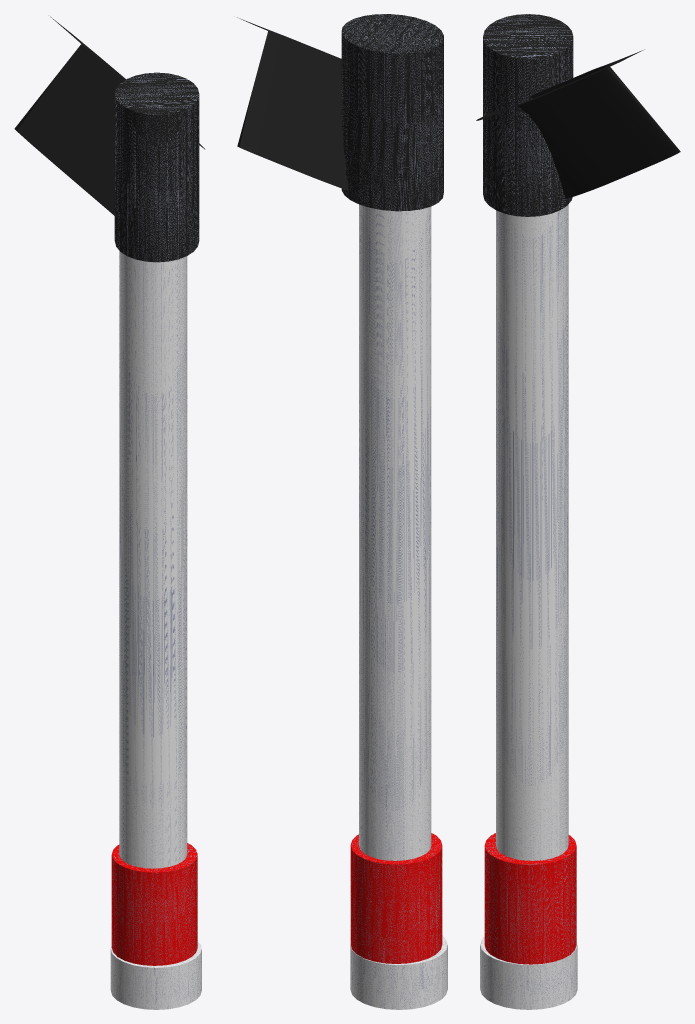
3 renders of one model, left to right at view 1: azimuth 90°, elevation 25°; view 2: azimuth 150°, elevation 25°; view 3: azimuth 270°, elevation 25°, orthographic. The views are drawn at different scales.
Parts seen in each view (by area): view 1: White_Cane___Red_Shaft, Black_Grip__White_Cane___Red_Shaft, Cord, Red_Shaft, White_Tip; view 2: White_Cane___Red_Shaft, Black_Grip__White_Cane___Red_Shaft, Cord, Red_Shaft, White_Tip; view 3: White_Cane___Red_Shaft, Black_Grip__White_Cane___Red_Shaft, Cord, Red_Shaft, White_Tip.
Boxes of the visible parts, left/top/right/bottom form: White_Cane___Red_Shaft: left=119, top=251, right=187, bottom=868; Black_Grip__White_Cane___Red_Shaft: left=114, top=72, right=199, bottom=262; Cord: left=14, top=16, right=205, bottom=215; Red_Shaft: left=111, top=843, right=197, bottom=965; White_Tip: left=110, top=941, right=201, bottom=1009; White_Cane___Red_Shaft: left=359, top=204, right=431, bottom=860; Black_Grip__White_Cane___Red_Shaft: left=341, top=14, right=443, bottom=211; Cord: left=237, top=17, right=346, bottom=189; Red_Shaft: left=350, top=833, right=442, bottom=963; White_Tip: left=350, top=935, right=447, bottom=1009; White_Cane___Red_Shaft: left=496, top=204, right=568, bottom=860; Black_Grip__White_Cane___Red_Shaft: left=483, top=14, right=573, bottom=216; Cord: left=476, top=49, right=680, bottom=198; Red_Shaft: left=484, top=833, right=576, bottom=964; White_Tip: left=480, top=936, right=577, bottom=1009.
Size of the model in its own units: 22.73 by 26.98 by 144.
